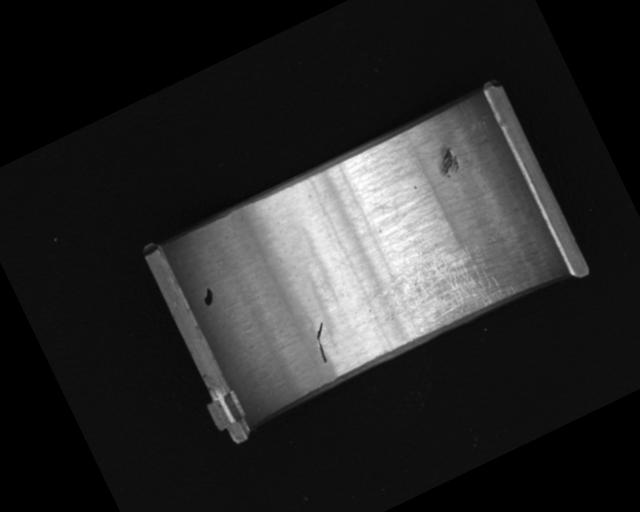blot: (198, 286, 218, 308)
bruise: (430, 143, 465, 182)
nick: (307, 322, 339, 364)
scratch: (361, 225, 516, 351)
